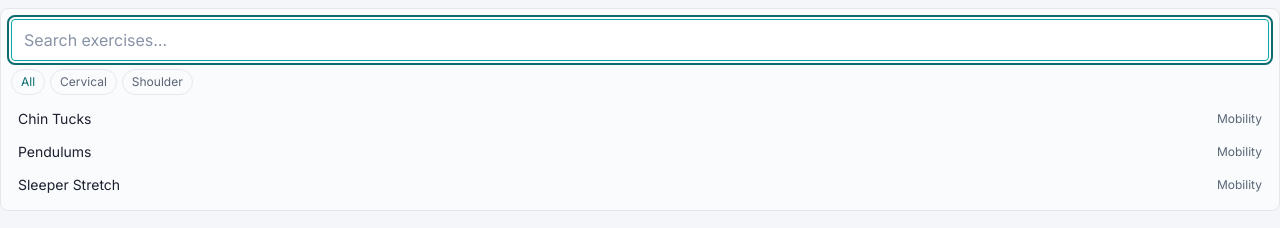
Test: ExercisePicker › shows an empty state when nothing matches
Type "zzzz" into the field with placeholder "Search exercises…" at (640, 40), box [11, 19, 1269, 61]
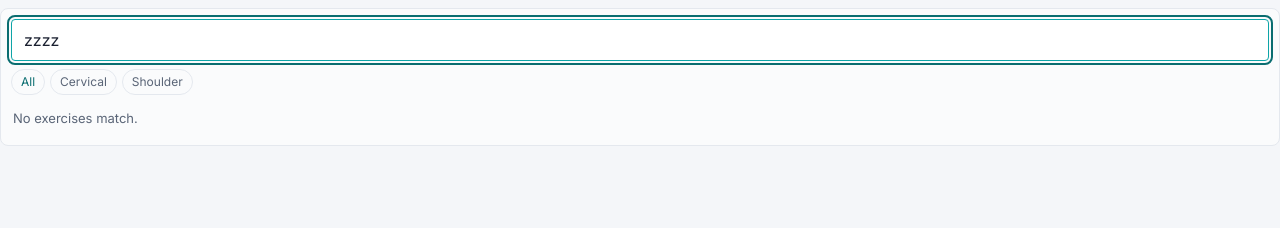
Check: the text "No exercises match." is shown, box [13, 110, 138, 126]
